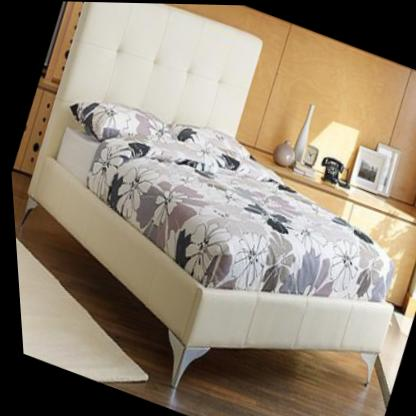Bed: (0, 0, 416, 416)
Wooden floor: (15, 207, 166, 369), (172, 347, 382, 416)
